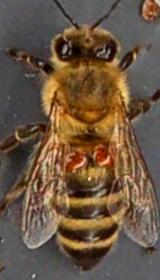varroa_mite: (88, 139, 118, 174), (58, 148, 90, 176)
